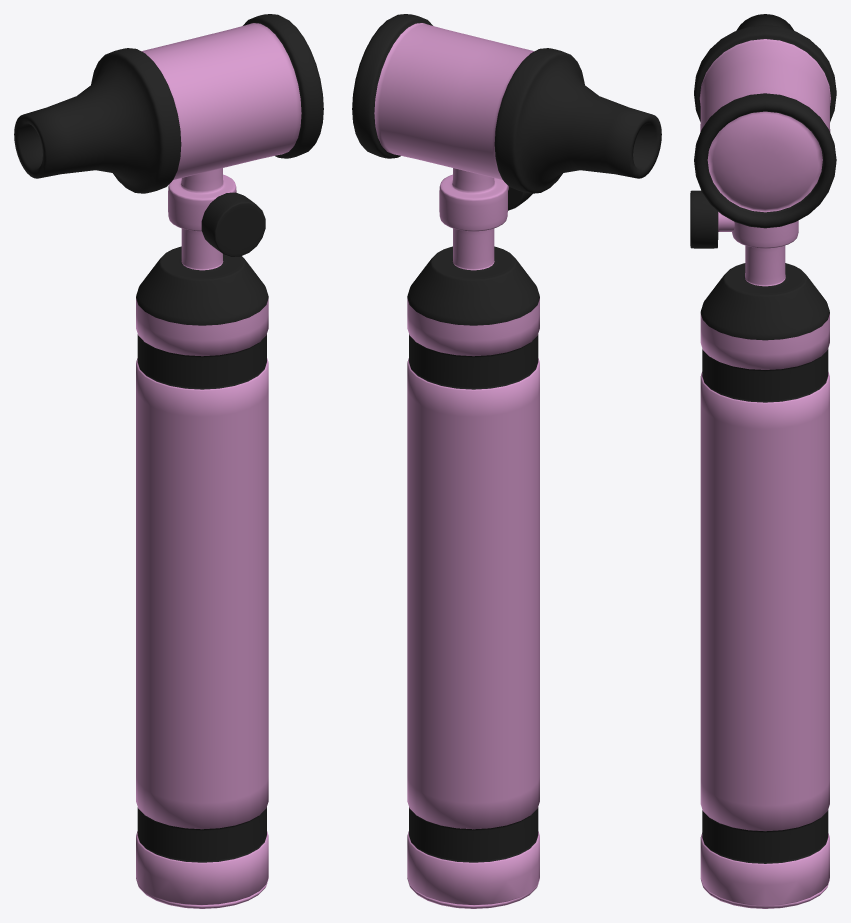
The model's file is otoscopio.FBX.
3 renders of one model, left to right at view 1: azimuth 30°, elevation 25°; view 2: azimuth 150°, elevation 25°; view 3: azimuth 270°, elevation 25°, orthographic. The views are drawn at different scales.
Parts seen in each view (by area): view 1: otoscopio; view 2: otoscopio; view 3: otoscopio.
Part boxes in pixels (x1,y1,x2,y2): otoscopio: [14, 14, 323, 908]; otoscopio: [352, 14, 661, 908]; otoscopio: [690, 14, 836, 908].
Bounding box in the file's own units: 25.29 × 78.62 × 12.68.
